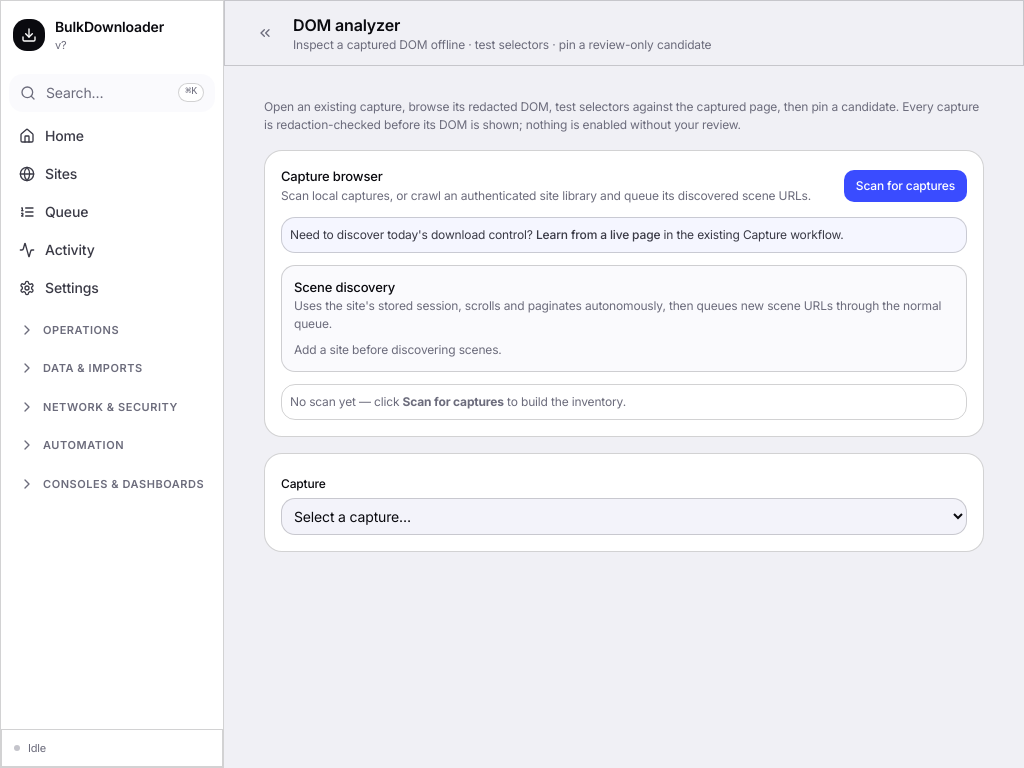
Test case: F3 DomAnalyzer › F3: loading capture B drops capture A's limited tree and selector results
Select "capA.json · captures" in the dropdown at (624, 516), box [281,498,967,535]
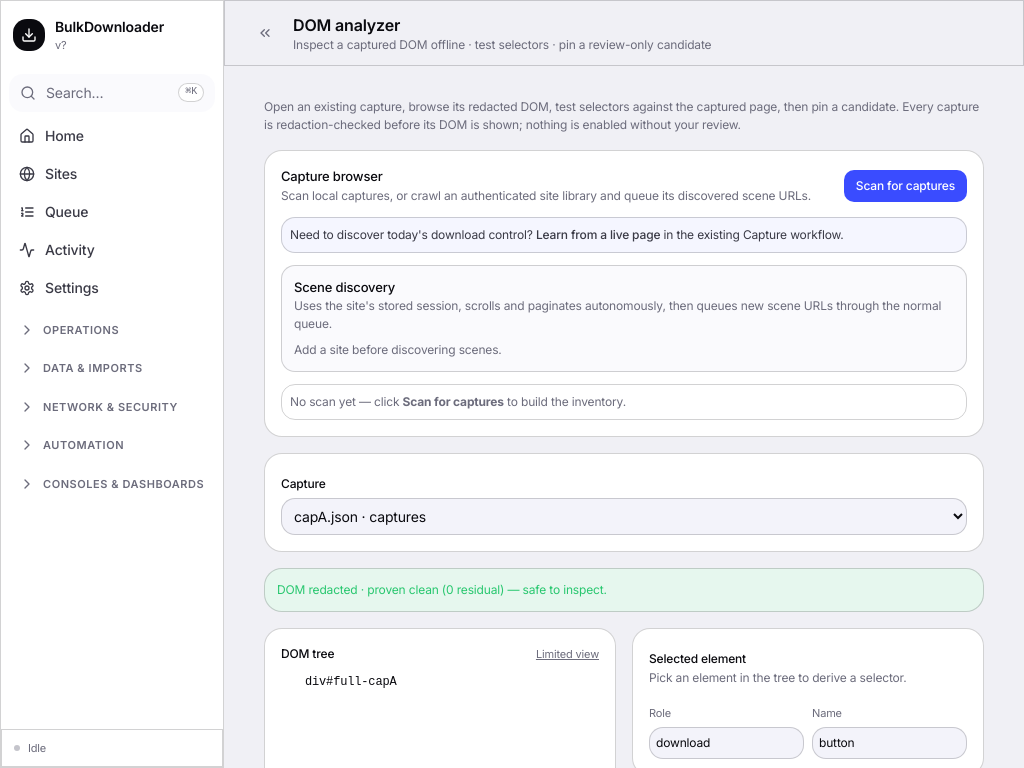
Check: the button "div#full-capA" is shown, box [301,671,400,693]
Click the button "Limited view" at (567, 654), box [536,646,599,662]
(page scrolled)
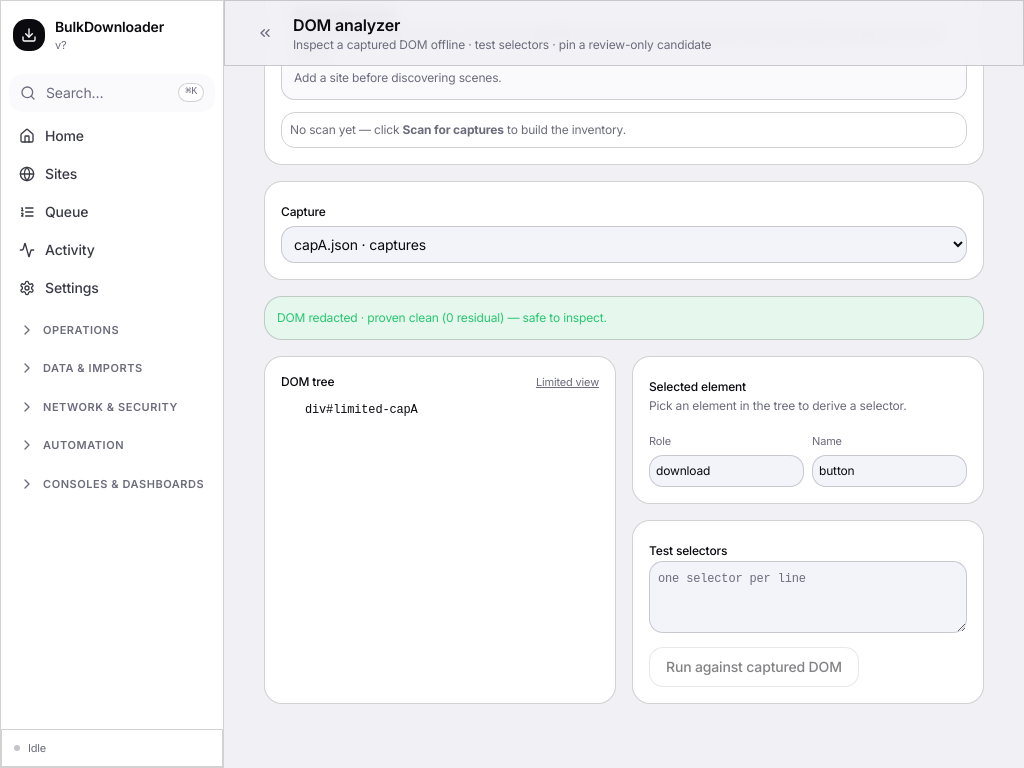
Check: the button "div#limited-capA" is shown, box [301,399,422,421]
Type ".sel" into the text box with placeholder "one selector per line" at (808, 597), box [649,561,967,633]
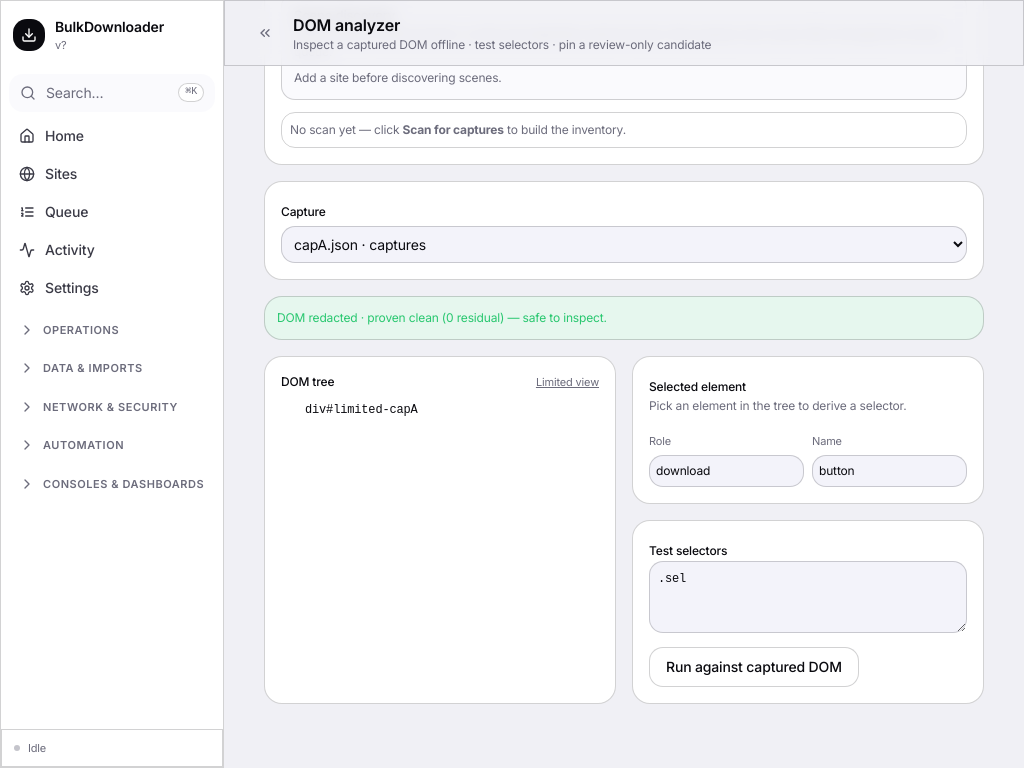
Click the button "Run against captured DOM" at (754, 667), box [649,647,859,687]
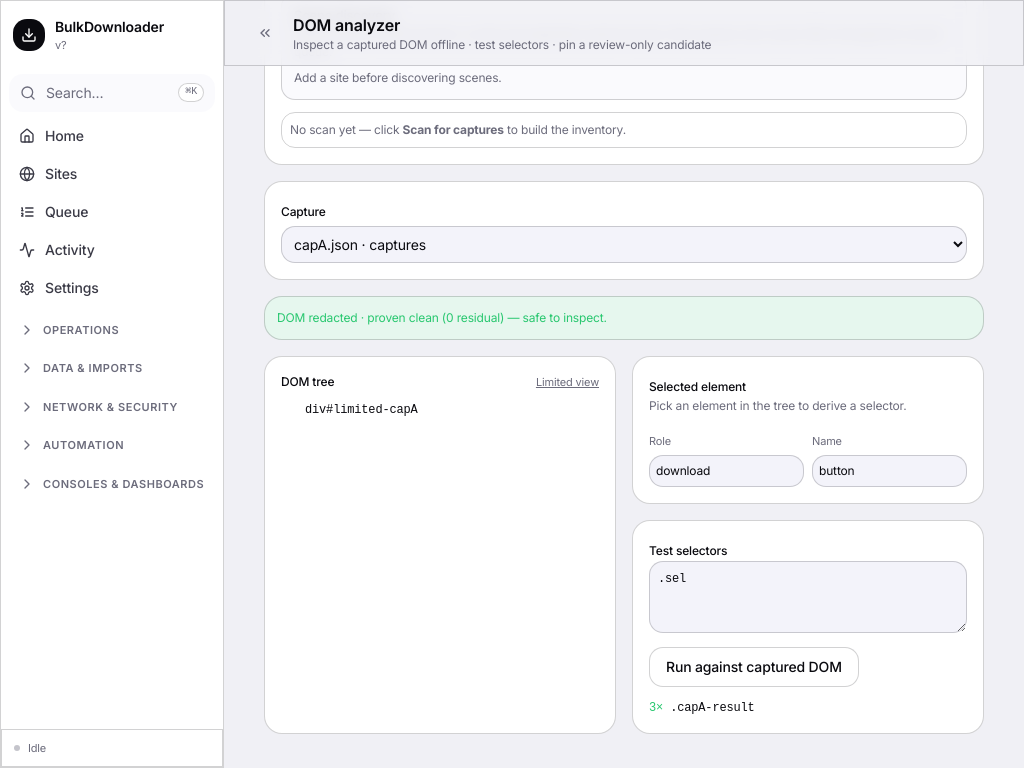
Check: the text ".capA-result" is shown, box [670,701,755,715]
Select "capB.json · captures" in the dropdown at (624, 244), box [281,226,967,263]
(page scrolled)
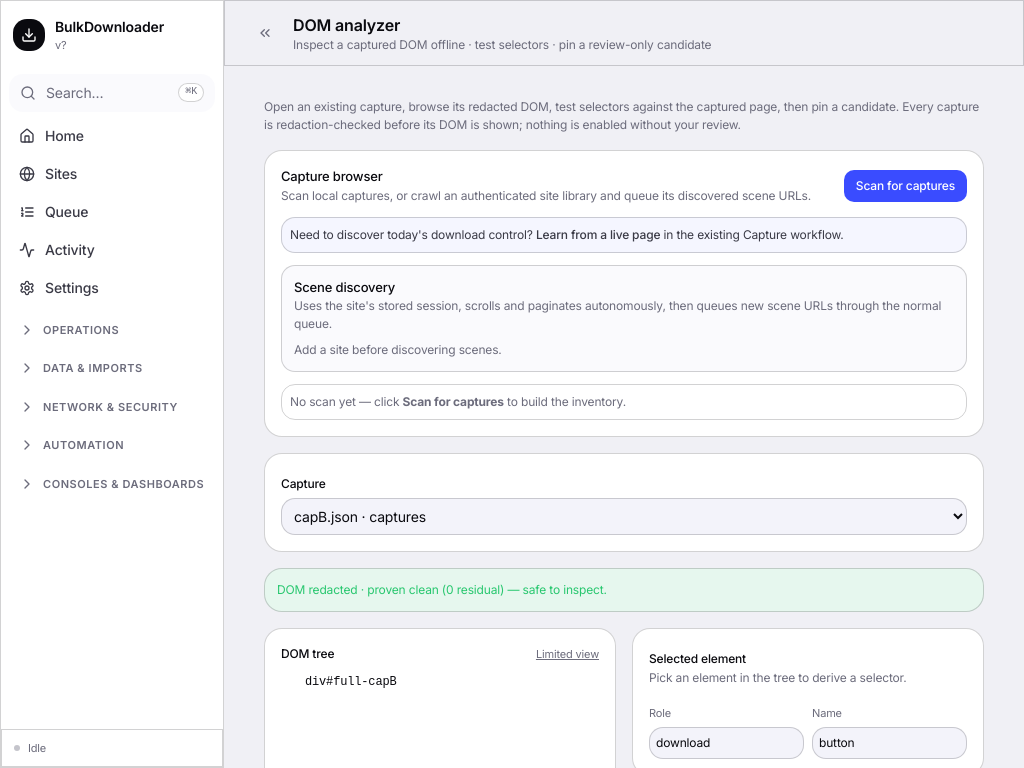
Check: the button "div#full-capB" is shown, box [301,671,400,693]
Check: the button "div#limited-capA" is gone
Check: the text ".capA-result" is gone
